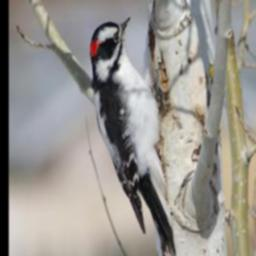Woodpecker: (91, 14, 178, 256)
